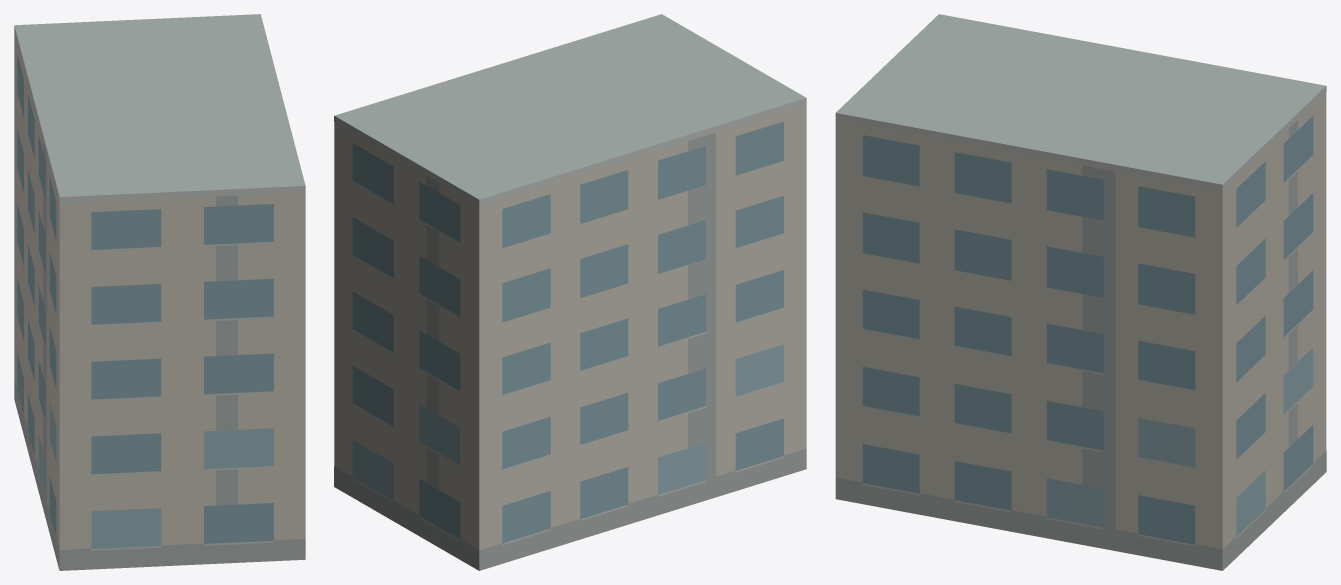
The model's file is survey-upis-32801172.glb.
The picture shows the model from 3 angles, left to right: view 1: azimuth 30°, elevation 25°; view 2: azimuth 150°, elevation 25°; view 3: azimuth 270°, elevation 25°; orthographic projection. The views are drawn at different scales.
Visible parts, largest first — view 1: survey-upis-32801172.tmp; view 2: survey-upis-32801172.tmp; view 3: survey-upis-32801172.tmp.
Boxes of the visible parts, x1,y1,x2,y2 form: survey-upis-32801172.tmp: (14, 14, 305, 570); survey-upis-32801172.tmp: (334, 14, 806, 570); survey-upis-32801172.tmp: (835, 14, 1326, 570).
Size of the model in its own units: 13.36 by 14.09 by 16.24.
